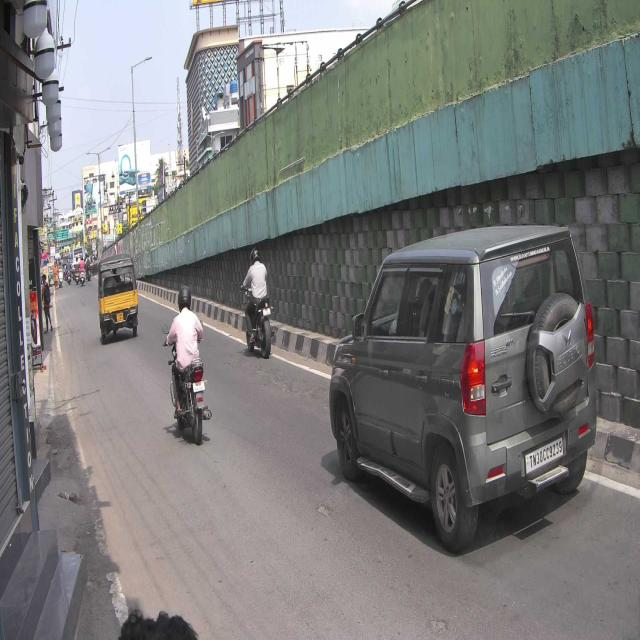single_rider: (162, 285, 213, 446), (240, 246, 276, 358)
